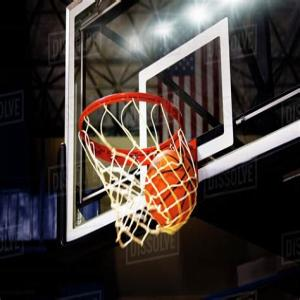Basket: (146, 148, 196, 228)
